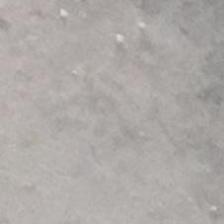Non_Crack: (23, 72, 224, 222)
